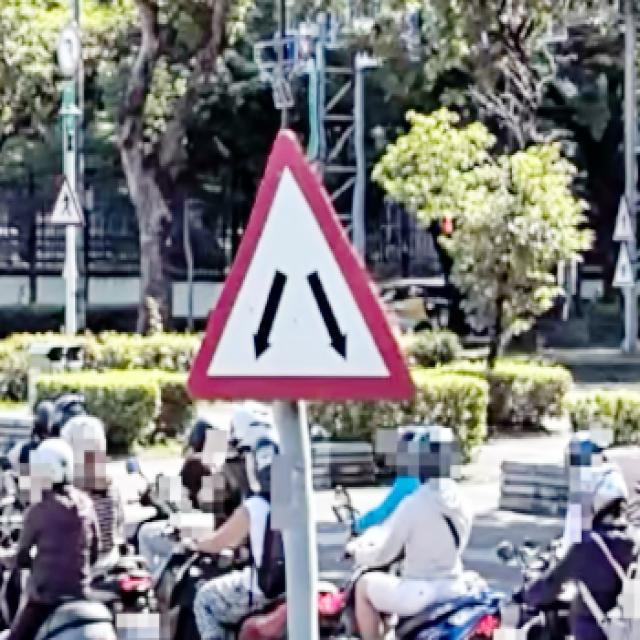diverge: (188, 131, 417, 402)
